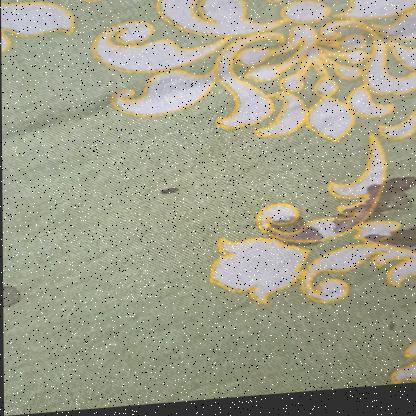spot: (258, 174, 416, 271), (367, 307, 416, 346), (2, 280, 37, 308), (155, 187, 187, 205)
